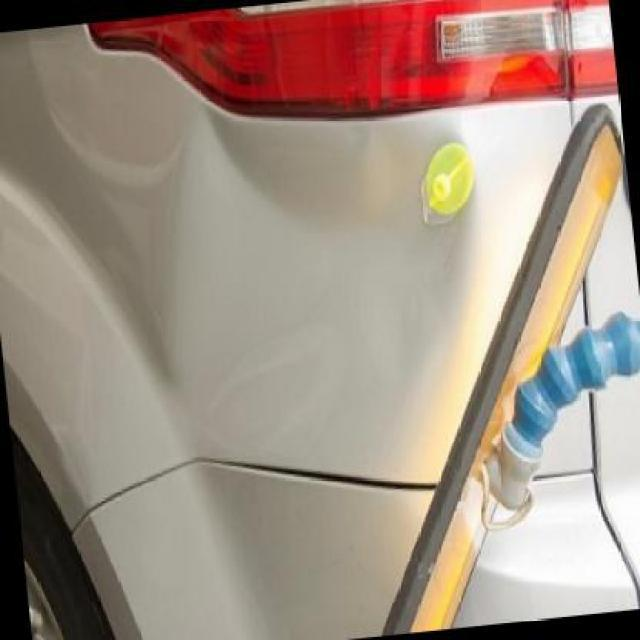dent: (0, 25, 194, 380), (225, 125, 457, 300)
